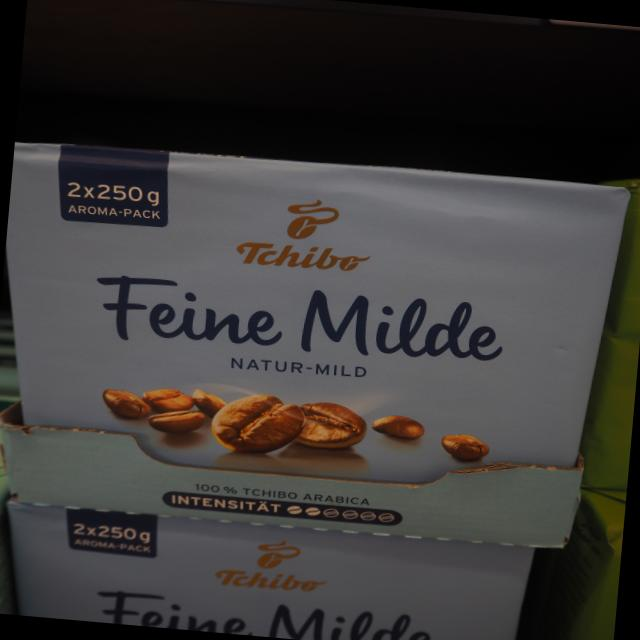FM Gemahlen: (13, 138, 632, 551)
